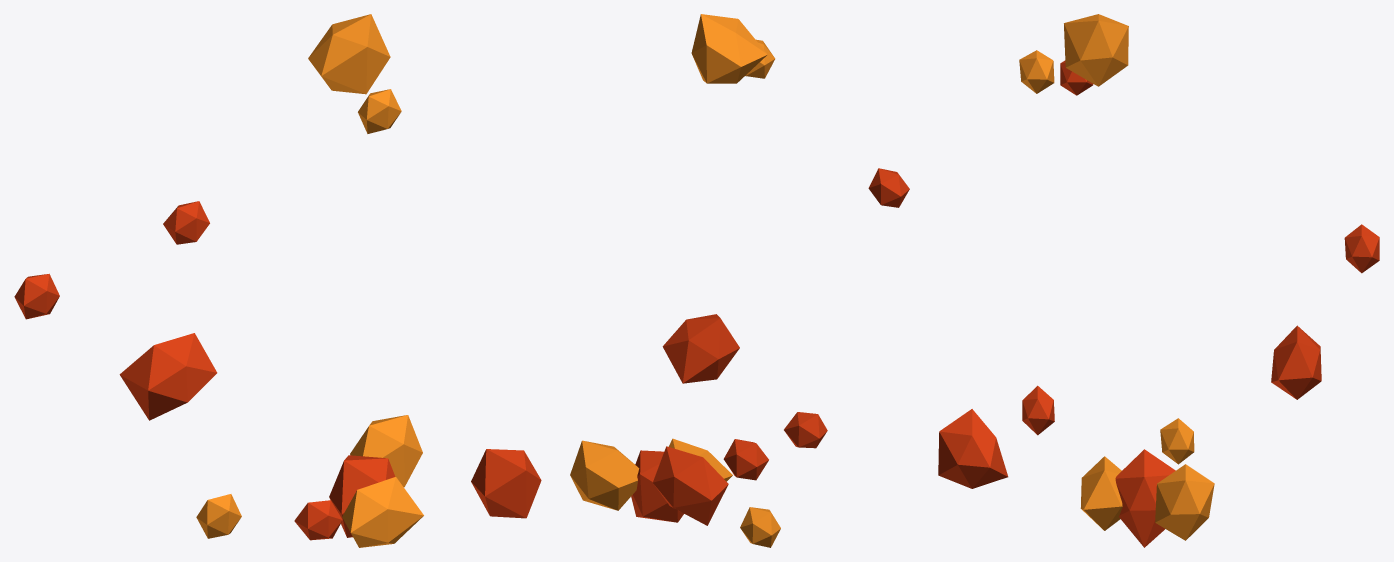
The model's file is frame_12.glb.
The picture shows the model from 3 angles, left to right: view 1: azimuth 30°, elevation 25°; view 2: azimuth 150°, elevation 25°; view 3: azimuth 270°, elevation 25°; orthographic projection. The views are drawn at different scales.
Parts seen in each view (by area): view 1: effect_explosion_large_frame_12; view 2: effect_explosion_large_frame_12; view 3: effect_explosion_large_frame_12.
Boxes of the visible parts, box(x1,y1,x2,y2) form: effect_explosion_large_frame_12: box(14, 14, 541, 547); effect_explosion_large_frame_12: box(570, 14, 909, 547); effect_explosion_large_frame_12: box(938, 14, 1379, 547).
Size of the model in its own units: 12.32 by 20.43 by 16.14.
